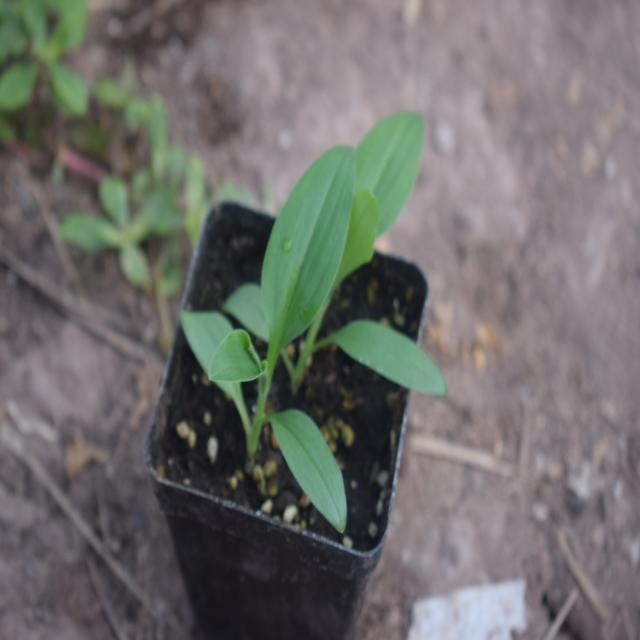Common Dayflower: (200, 108, 428, 514)
